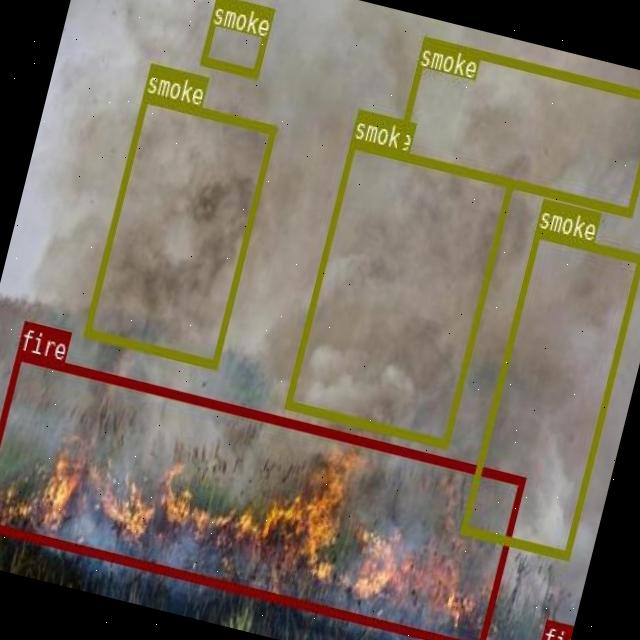fire: (0, 350, 524, 640), (533, 618, 566, 640)
smoke: (284, 138, 513, 446), (459, 226, 640, 558), (82, 91, 276, 367), (393, 34, 640, 215), (199, 0, 273, 77)
